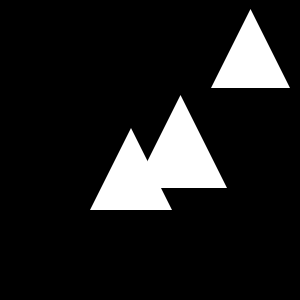triangle: (134, 95, 227, 188), (90, 128, 172, 210), (211, 9, 290, 88), (218, 45, 260, 87)
